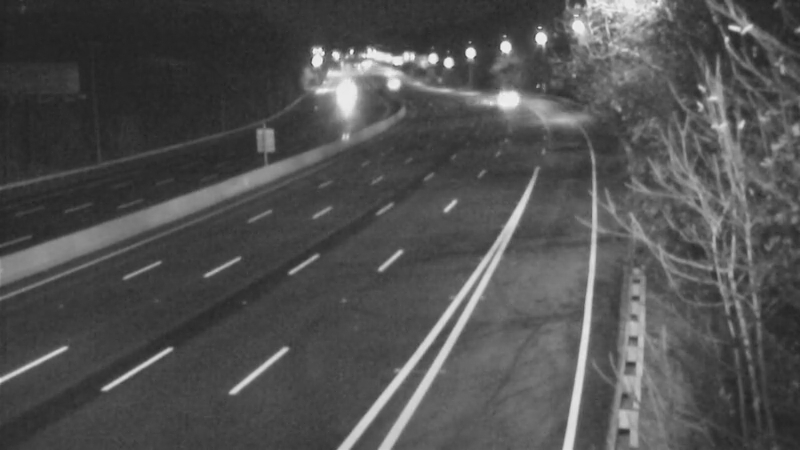vehicle: (366, 57, 416, 107), (481, 71, 531, 121), (318, 70, 368, 120)
